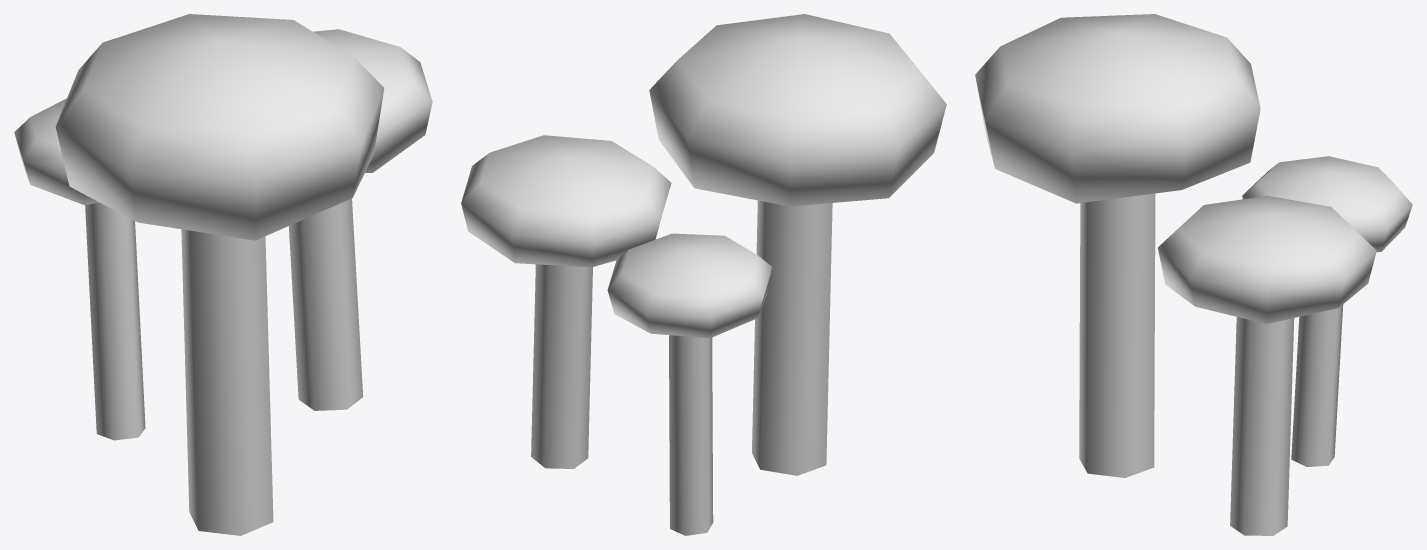
Rendered from Mushroom.fbx.
3 views of the same model, side by side, from view 1: azimuth 30°, elevation 25°; view 2: azimuth 150°, elevation 25°; view 3: azimuth 270°, elevation 25° (orthographic). The views are drawn at different scales.
Visible parts, largest first — view 1: Mushroom_LOD0; view 2: Mushroom_LOD0; view 3: Mushroom_LOD0.
Part boxes in pixels (left/top/right/bottom): Mushroom_LOD0: left=14, top=14, right=432, bottom=535; Mushroom_LOD0: left=461, top=14, right=946, bottom=535; Mushroom_LOD0: left=975, top=14, right=1412, bottom=535.
Size of what is drawn, in the model's own units: 0.2593 by 0.2801 by 0.261.
